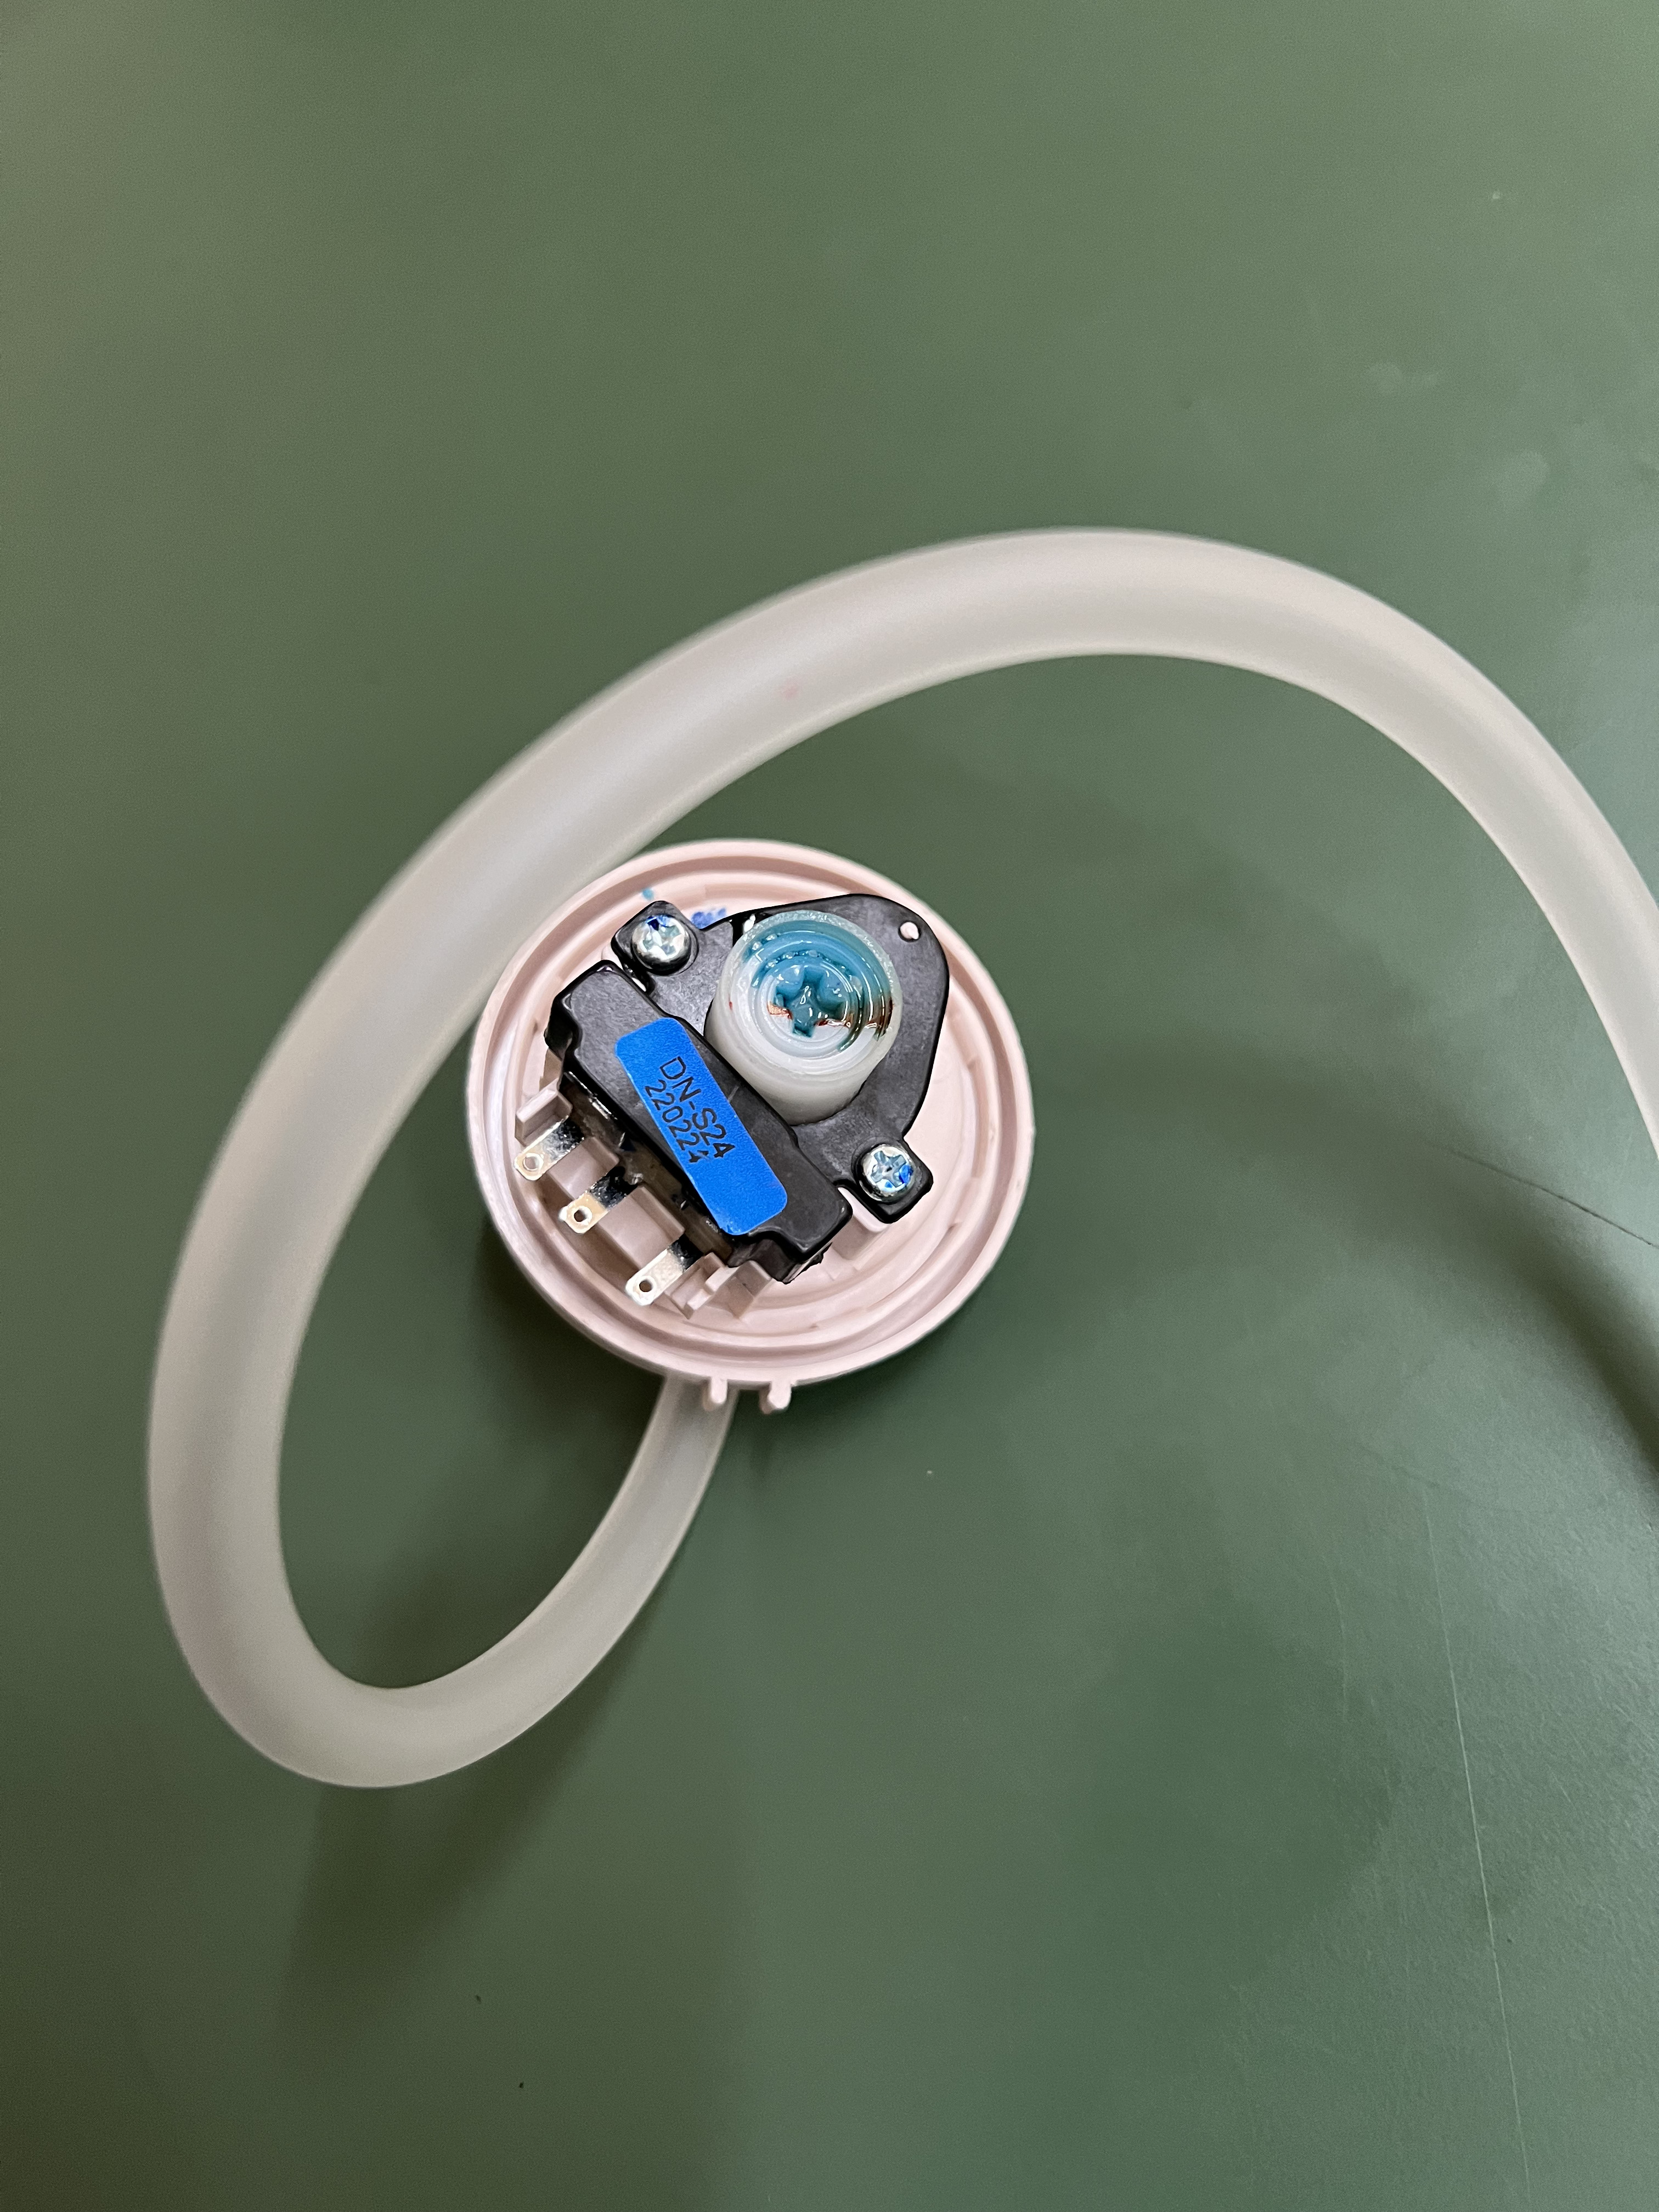pressure_sensor: (125, 813, 1094, 1806)
